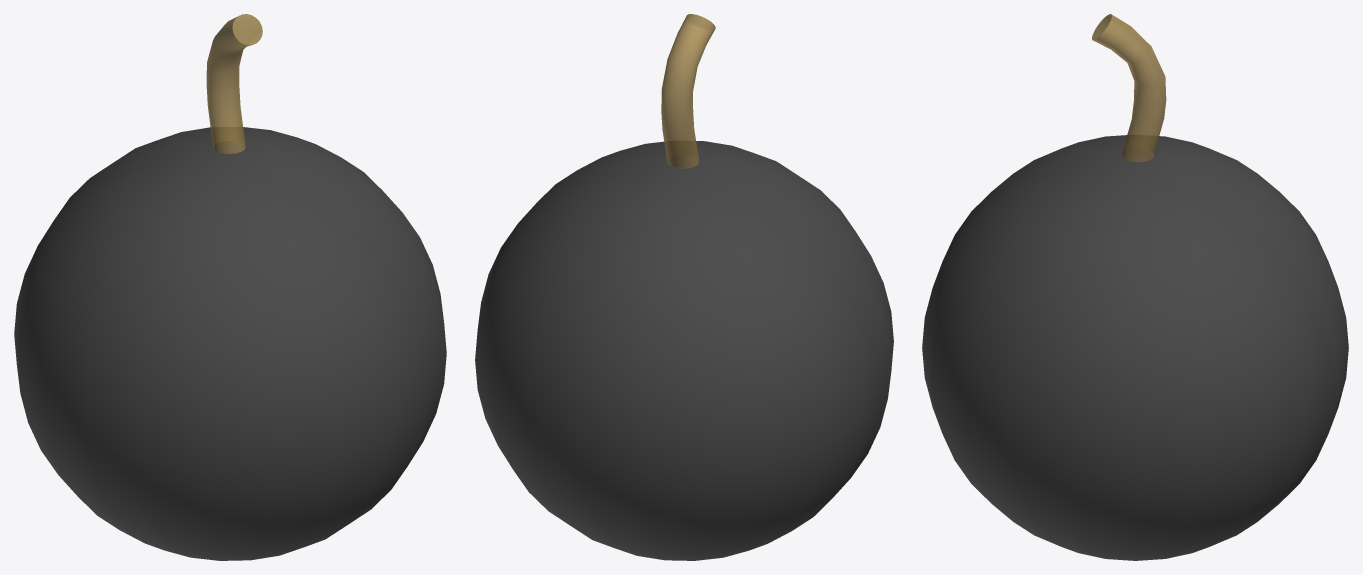
Rendered from Bomb Pickup.fbx.
The picture shows the model from 3 angles, left to right: view 1: azimuth 30°, elevation 25°; view 2: azimuth 150°, elevation 25°; view 3: azimuth 270°, elevation 25°; orthographic projection. The views are drawn at different scales.
Visible parts, largest first — view 1: pCylinder2; view 2: pCylinder2; view 3: pCylinder2.
Boxes of the visible parts, x1=… form: pCylinder2: x1=14, y1=14, x2=446, y2=560; pCylinder2: x1=475, y1=14, x2=893, y2=560; pCylinder2: x1=922, y1=14, x2=1348, y2=560.
Size of the model in its own units: 26.37 by 35.81 by 26.37.
